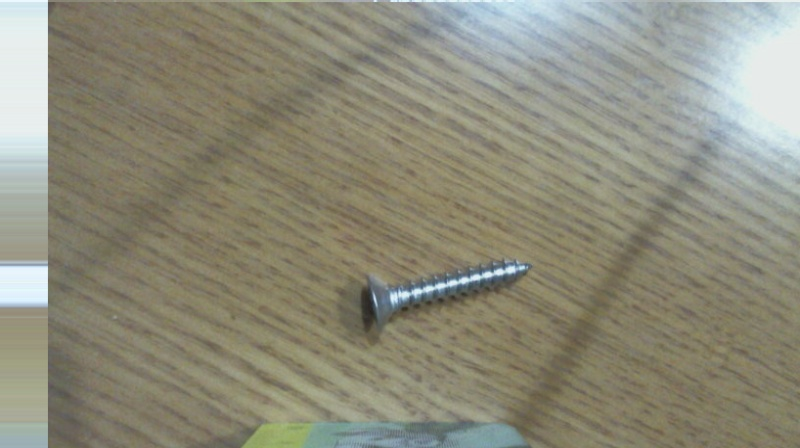S001: (361, 256, 533, 330)
